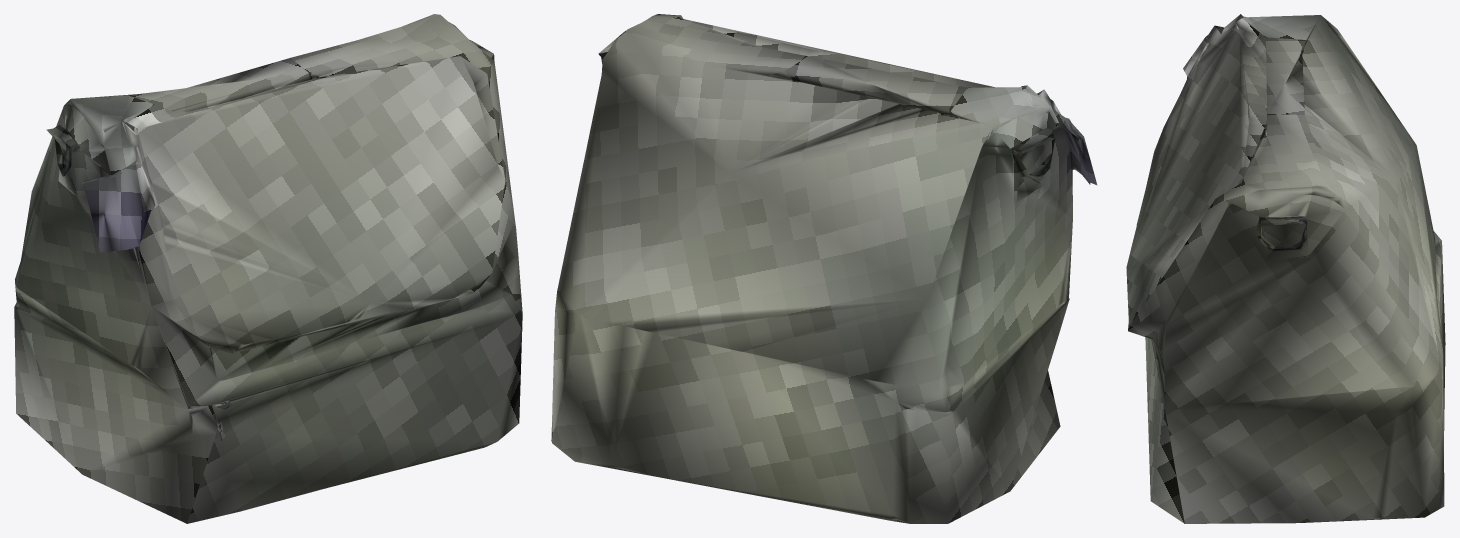
The model's file is Digital_Camo_Double_Decker_Lunch_Bag-low.glb.
3 renders of one model, left to right at view 1: azimuth 30°, elevation 25°; view 2: azimuth 150°, elevation 25°; view 3: azimuth 270°, elevation 25°, orthographic. The views are drawn at different scales.
Visible parts, largest first — view 1: Digital_Camo_Double_Decker_Lunch_Bag; view 2: Digital_Camo_Double_Decker_Lunch_Bag; view 3: Digital_Camo_Double_Decker_Lunch_Bag.
Boxes of the visible parts, bbox=[...] form: Digital_Camo_Double_Decker_Lunch_Bag: bbox=[14, 14, 522, 523]; Digital_Camo_Double_Decker_Lunch_Bag: bbox=[551, 14, 1097, 523]; Digital_Camo_Double_Decker_Lunch_Bag: bbox=[1126, 14, 1445, 523].
Size of the model in its own units: 0.2571 by 0.2117 by 0.1769.
Materials: 1 (1 with a texture image).
